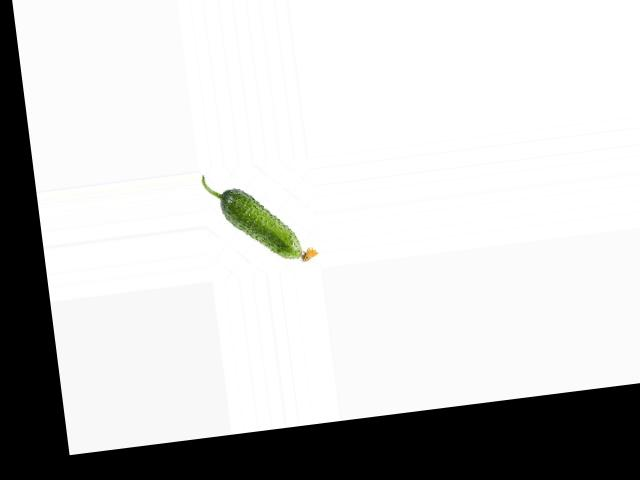cucumber: (201, 162, 319, 273)
